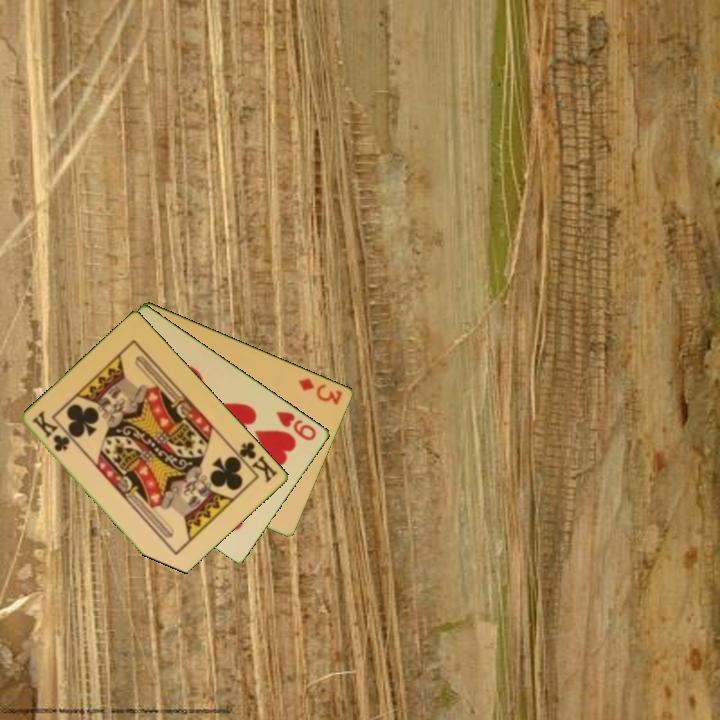3d: (295, 374, 346, 408)
9h: (273, 407, 320, 444)
Kc: (230, 438, 281, 486), (29, 408, 73, 455)
